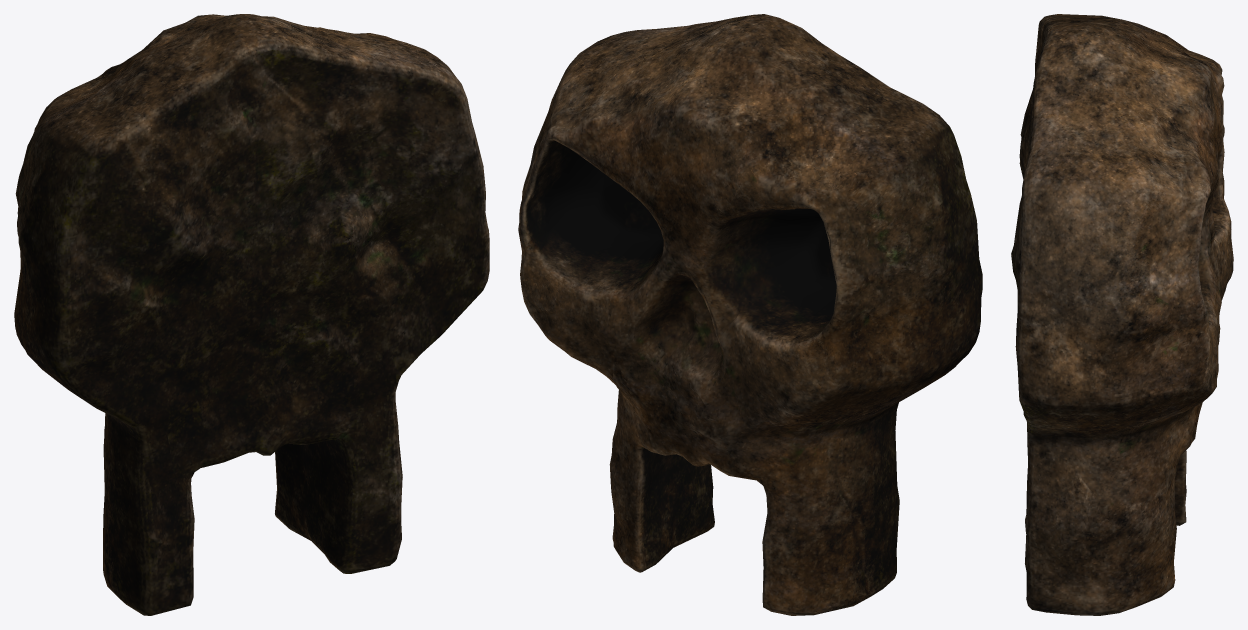
The model's file is SM_TI_RockEntrance_1.fbx.
3 renders of one model, left to right at view 1: azimuth 30°, elevation 25°; view 2: azimuth 150°, elevation 25°; view 3: azimuth 270°, elevation 25°, orthographic. The views are drawn at different scales.
Parts seen in each view (by area): view 1: SM_TI_RockEntrance_1; view 2: SM_TI_RockEntrance_1; view 3: SM_TI_RockEntrance_1.
Boxes of the visible parts, x1,y1,x2,y2 form: SM_TI_RockEntrance_1: (14, 14, 489, 615); SM_TI_RockEntrance_1: (518, 14, 982, 615); SM_TI_RockEntrance_1: (1011, 14, 1233, 615).
Size of the model in its own units: 22.11 by 10.26 by 26.94.
